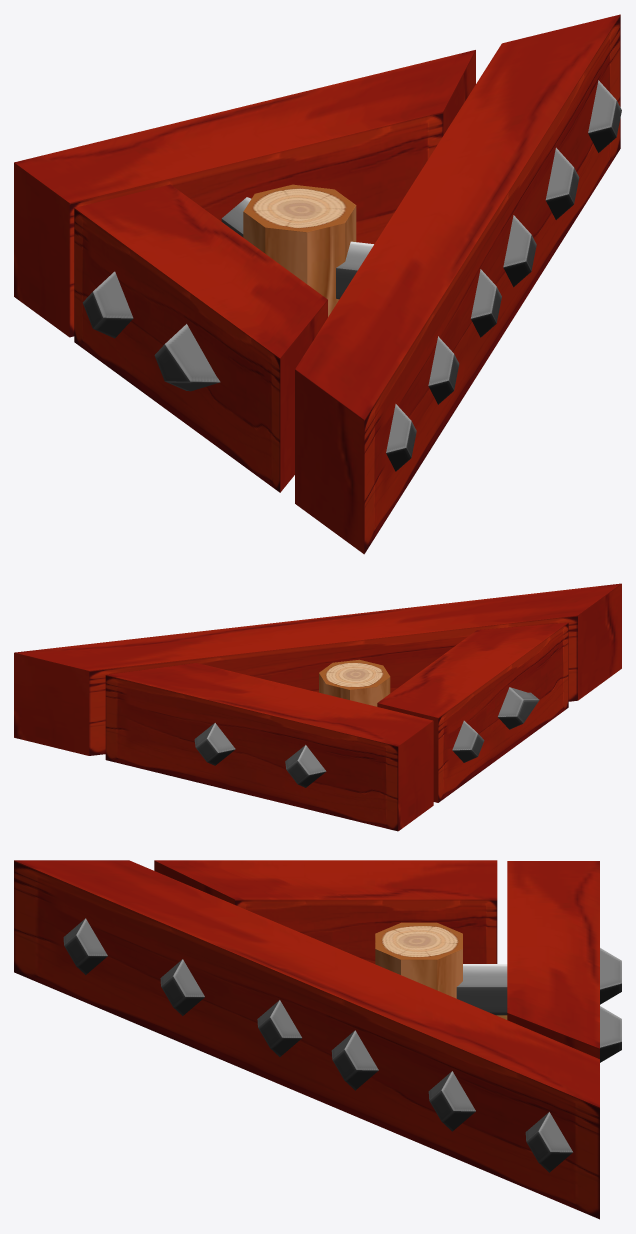
Rendered from triangle_red_02.fbx.
3 views of the same model, one above another, from view 1: azimuth 30°, elevation 25°; view 2: azimuth 150°, elevation 25°; view 3: azimuth 270°, elevation 25° (orthographic). The views are drawn at different scales.
Visible parts, largest first — view 1: wall_52, wall_79, wall_81, Middle_8, spring_14; view 2: wall_81, wall_52, wall_79, Middle_8; view 3: wall_52, wall_79, wall_81, Middle_8, spring_13.
Part boxes in pixels (x1,y1,x2,y2): wall_52: (295, 14, 621, 554); wall_79: (74, 184, 327, 492); wall_81: (14, 50, 475, 337); Middle_8: (243, 184, 356, 316); spring_14: (336, 241, 373, 299); wall_81: (105, 663, 433, 831); wall_52: (14, 583, 621, 755); wall_79: (377, 622, 568, 802); Middle_8: (319, 659, 390, 706); wall_52: (14, 860, 599, 1219); wall_79: (154, 860, 497, 963); wall_81: (507, 861, 621, 1062); Middle_8: (375, 922, 462, 998); spring_13: (456, 964, 507, 1015).
Bounding box in the file's own units: 196 × 40 × 197.
